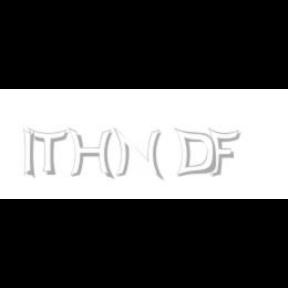D: (174, 128, 216, 178)
F: (208, 128, 240, 178)
H: (68, 128, 114, 180)
N: (112, 128, 162, 180)
T: (28, 128, 68, 176)
l: (23, 128, 39, 180)
